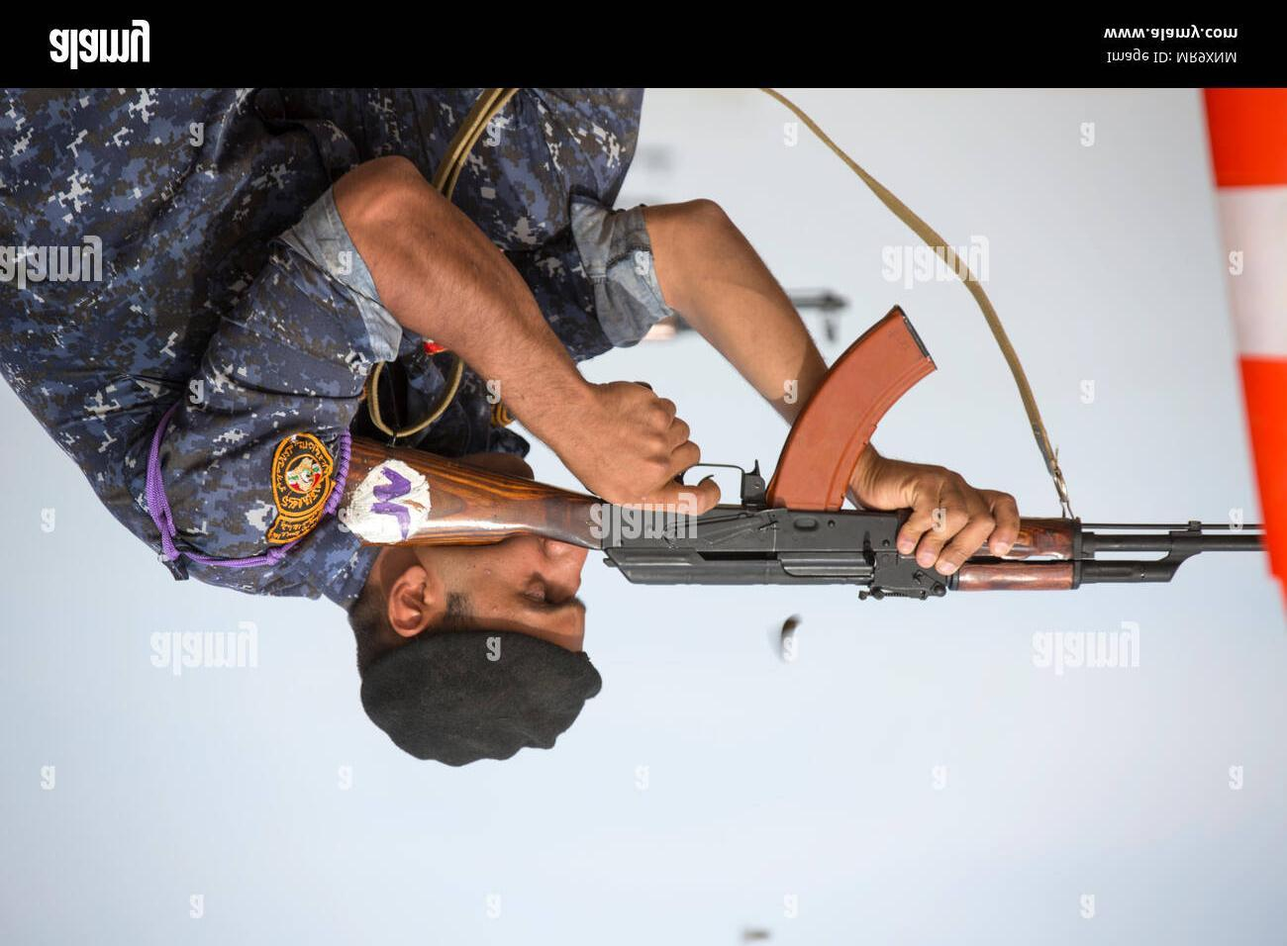larga: (325, 301, 1267, 604)
